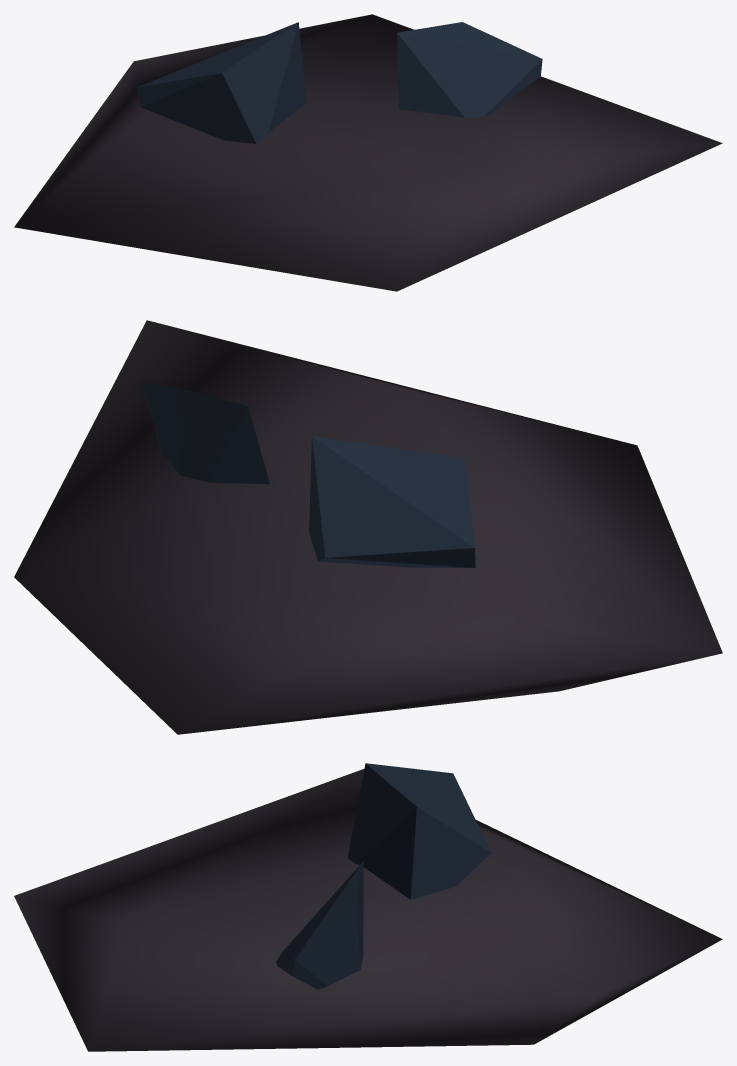
File: mancha_1.glb
The picture shows the model from 3 angles, top to bottom: view 1: azimuth 30°, elevation 25°; view 2: azimuth 150°, elevation 25°; view 3: azimuth 270°, elevation 25°; orthographic projection. The views are drawn at different scales.
Visible parts, largest first — view 1: mancha_1; view 2: mancha_1; view 3: mancha_1.
Boxes of the visible parts, left/top/right/bottom form: mancha_1: left=14, top=14, right=722, bottom=291; mancha_1: left=14, top=320, right=722, bottom=734; mancha_1: left=14, top=763, right=722, bottom=1051.
Bounding box in the file's own units: 0.5766 × 0.1262 × 0.5385.
